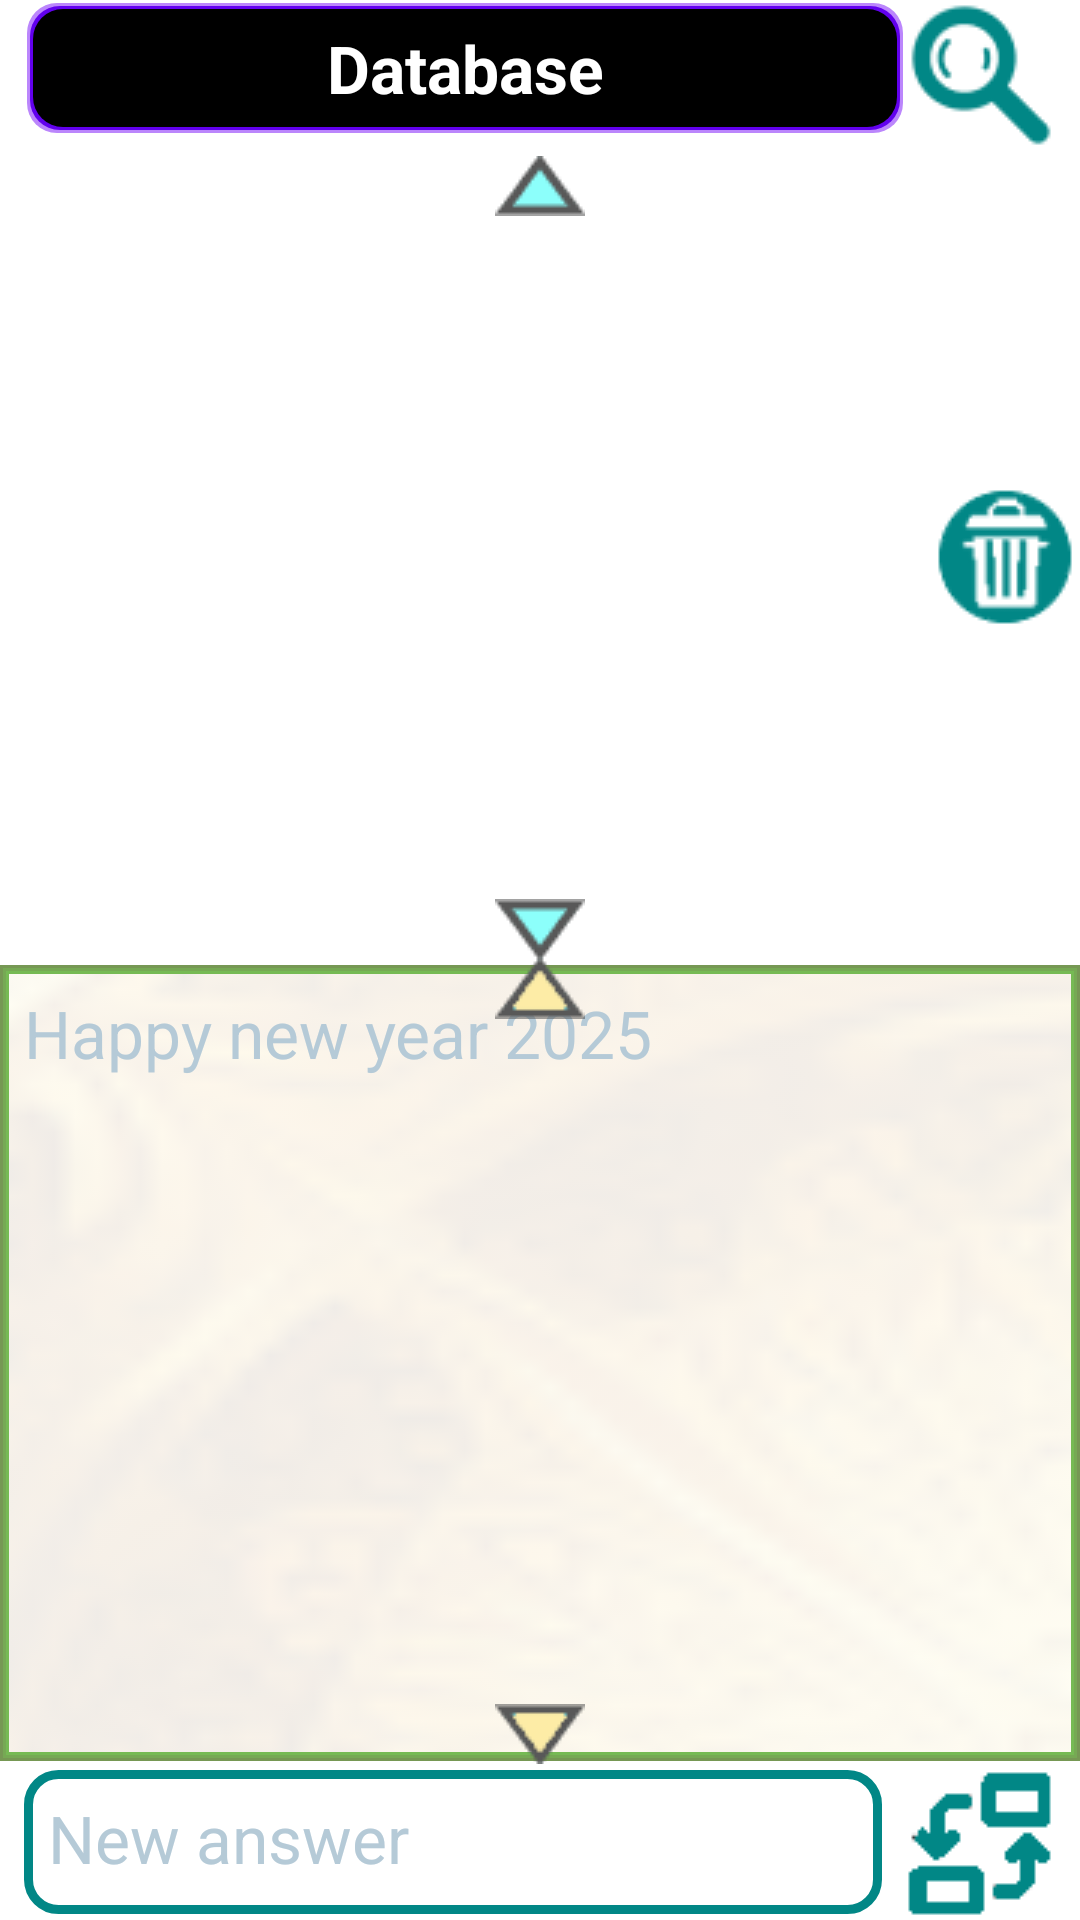

Where to tap for icons on this 1080w x 1920h app screen, as point (x, y):
Delete: point (1005, 557)
down: point (540, 929), point (540, 1734)
Replace: point (979, 1843)
Search: point (981, 75)
